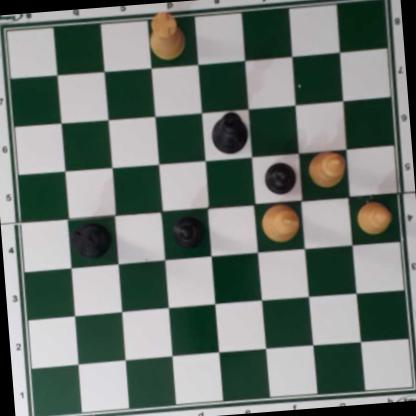black-king: (209, 111, 249, 156)
black-pawn: (171, 214, 208, 252), (262, 159, 297, 196)
black-rook: (72, 219, 113, 260)
white-bishop: (305, 146, 347, 191)
white-king: (260, 197, 302, 247)
white-pawn: (354, 198, 391, 235)
white-rook: (147, 11, 187, 61)
